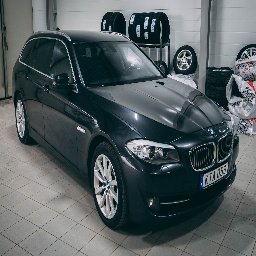sv_licence_plate: (202, 163, 229, 189)
